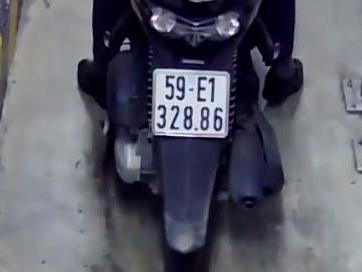num_plate: (152, 69, 228, 139)
